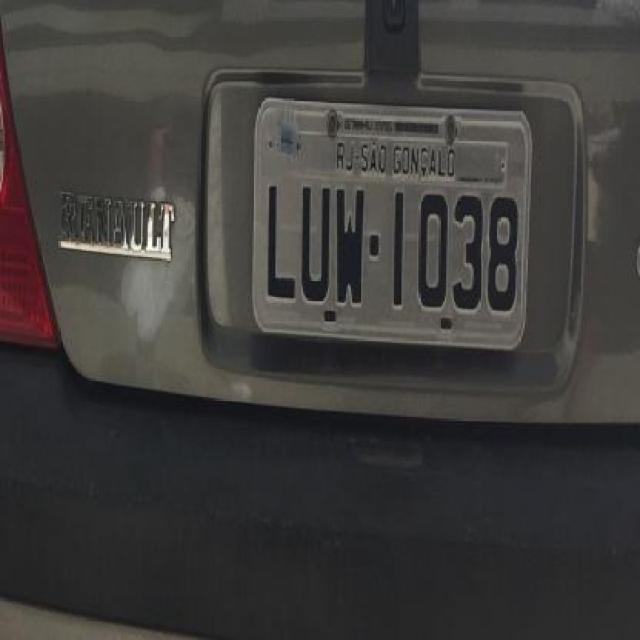old_plate: (243, 90, 538, 361)
